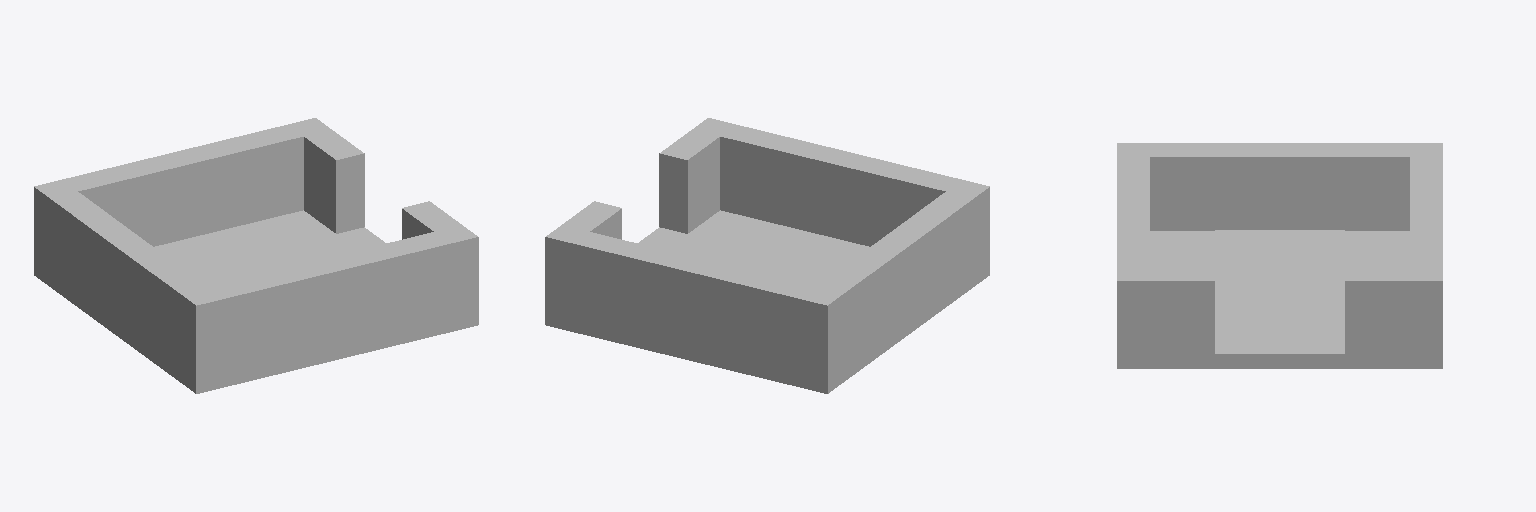
File: deadendfinal.obj
3 views of the same model, side by side, from view 1: azimuth 30°, elevation 25°; view 2: azimuth 150°, elevation 25°; view 3: azimuth 270°, elevation 25° (orthographic).
Parts seen in each view (by area): view 1: deadend; view 2: deadend; view 3: deadend.
Part boxes in pixels (x1,y1,x2,y2): deadend: (34,118,478,393); deadend: (545,118,989,393); deadend: (1117,143,1442,368).
Size of the model in its own units: 40.03 by 12 by 40.